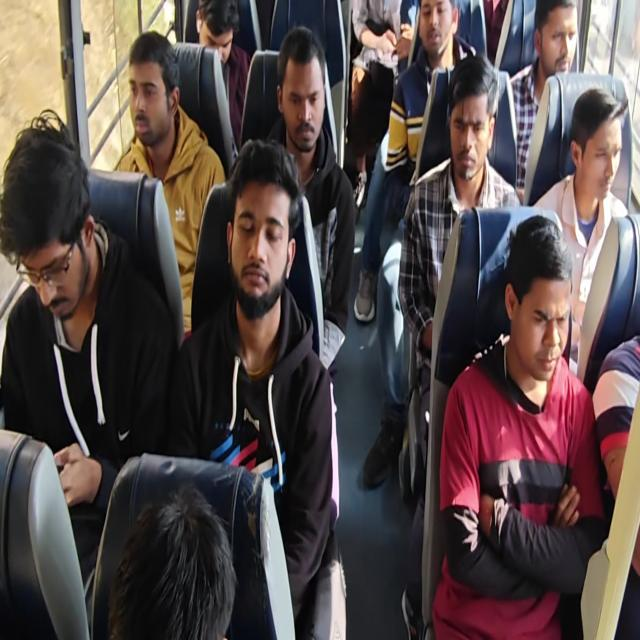person: (103, 482, 237, 640), (0, 118, 98, 317), (219, 127, 293, 319), (503, 200, 568, 409), (118, 24, 186, 157), (269, 18, 334, 147), (569, 84, 628, 210), (446, 48, 495, 188), (535, 3, 590, 77), (196, 0, 239, 66), (420, 6, 453, 57)
